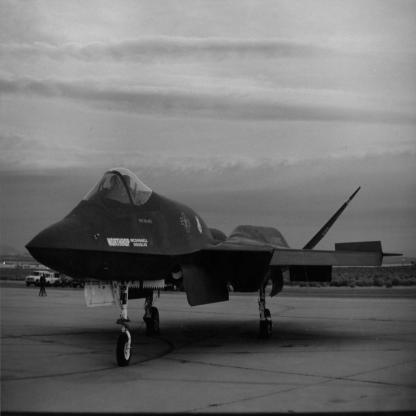YF23: (25, 168, 404, 367)
